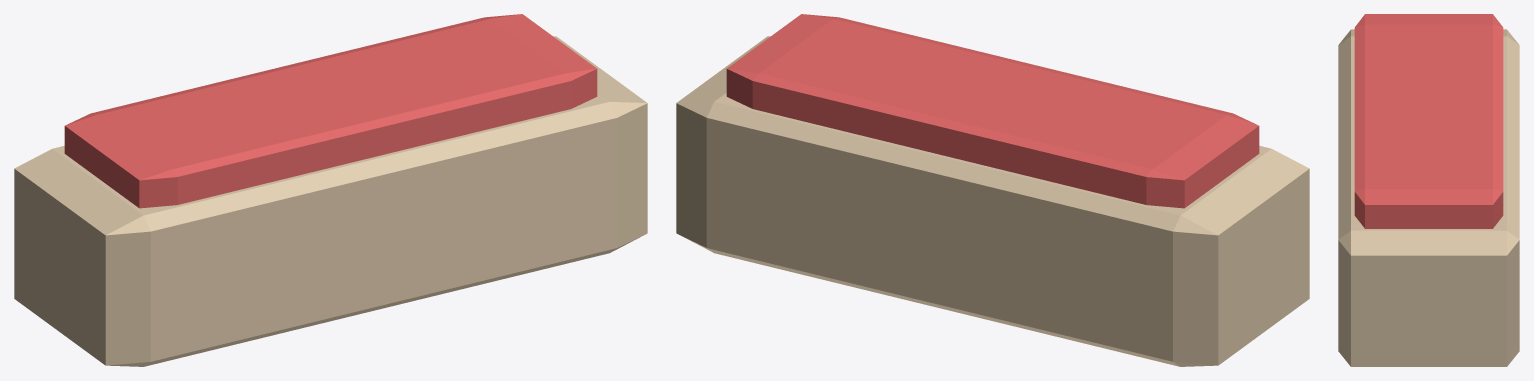
Rendered from b16_curled_receipt_litter.glb.
3 views of the same model, side by side, from view 1: azimuth 30°, elevation 25°; view 2: azimuth 150°, elevation 25°; view 3: azimuth 270°, elevation 25° (orthographic). The views are drawn at different scales.
Visible parts, largest first — view 1: b16_curled_receipt_litter; view 2: b16_curled_receipt_litter; view 3: b16_curled_receipt_litter.
Part boxes in pixels (x1,y1,x2,y2): b16_curled_receipt_litter: [14, 14, 647, 366]; b16_curled_receipt_litter: [676, 14, 1309, 366]; b16_curled_receipt_litter: [1338, 14, 1519, 366].
Size of the model in its own units: 0.171 by 0.055 by 0.058.
